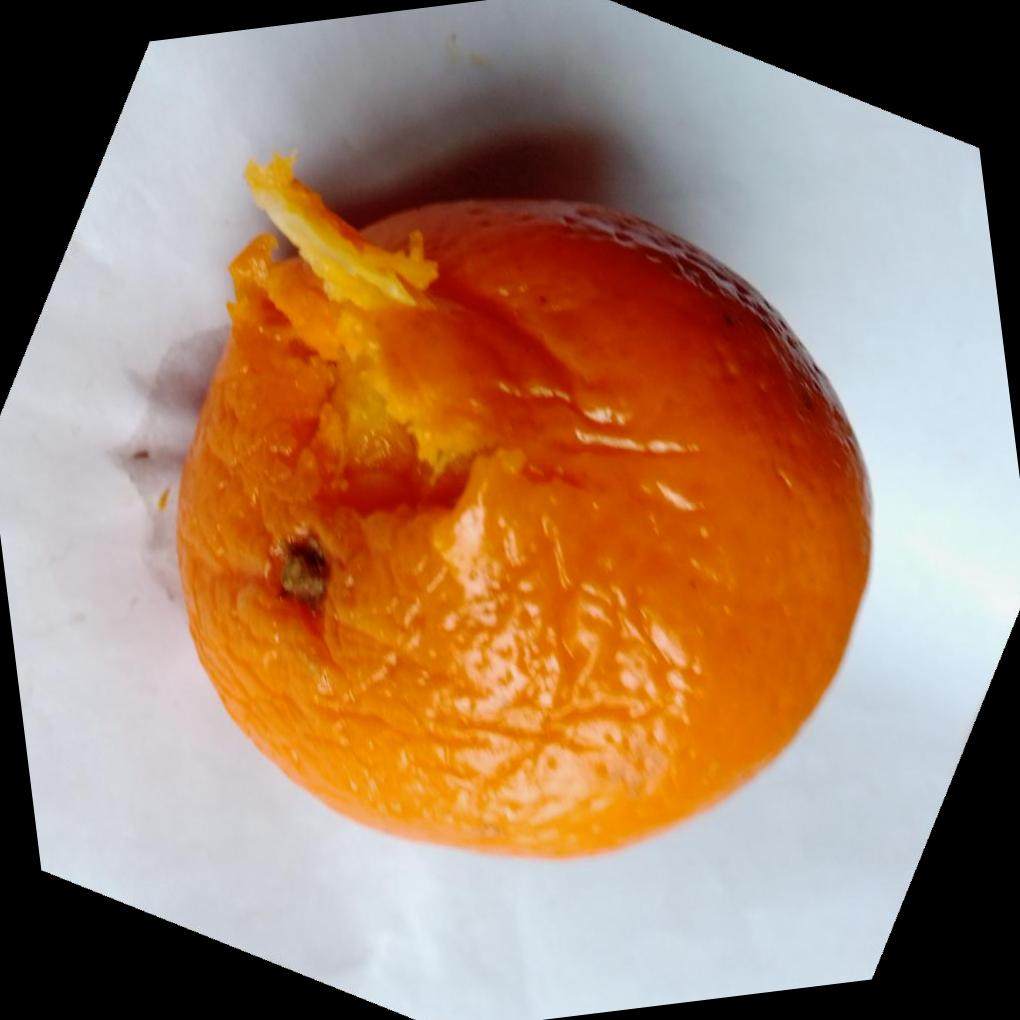FreshOrange: (171, 150, 875, 858)
